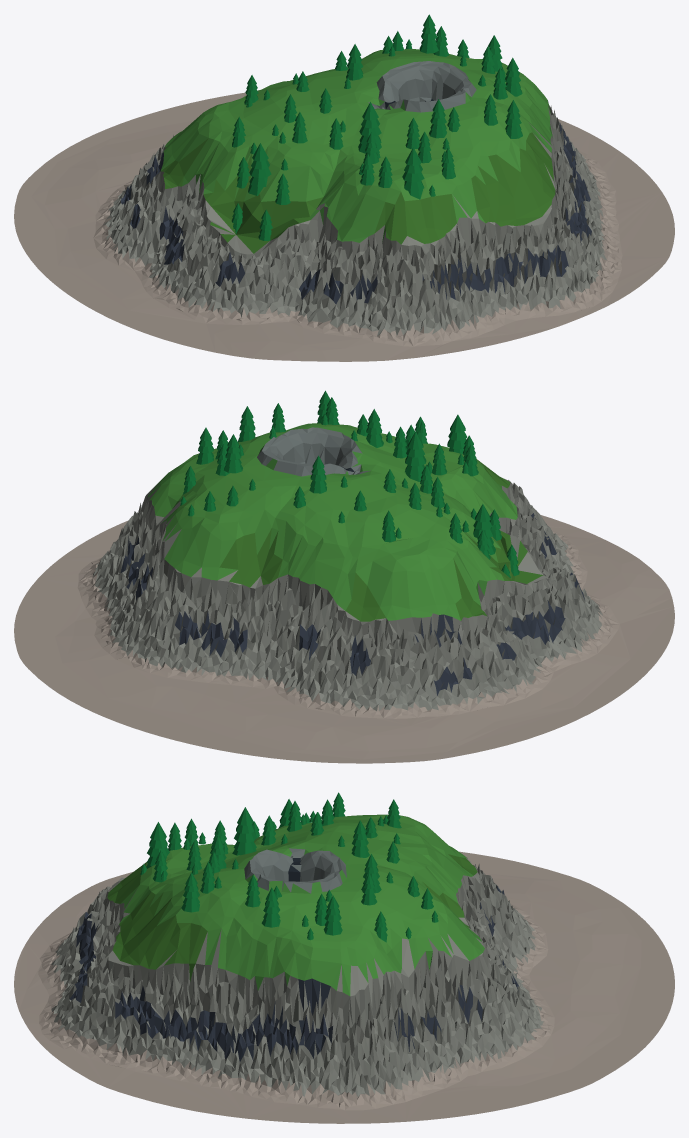
The model's file is Insel_04.fbx.
3 renders of one model, top to bottom at view 1: azimuth 30°, elevation 25°; view 2: azimuth 150°, elevation 25°; view 3: azimuth 270°, elevation 25°, orthographic. The views are drawn at different scales.
Visible parts, largest first — view 1: Cube.003; view 2: Cube.003; view 3: Cube.003.
Boxes of the visible parts, <box> form: Cube.003: <box>14,14,674,361</box>; Cube.003: <box>14,390,674,763</box>; Cube.003: <box>14,792,674,1123</box>.
Bounding box in the file's own units: 915 × 274 × 915.
